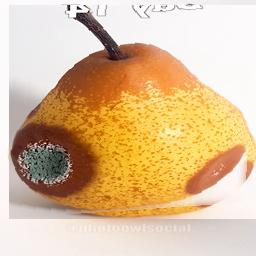Pear Rotten: (9, 5, 256, 219)
